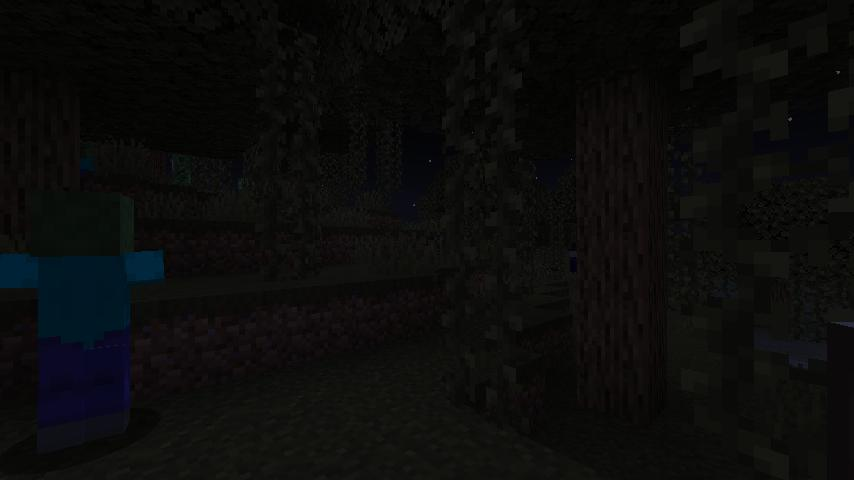creeper: (171, 153, 192, 186)
zombie: (3, 188, 170, 452)
